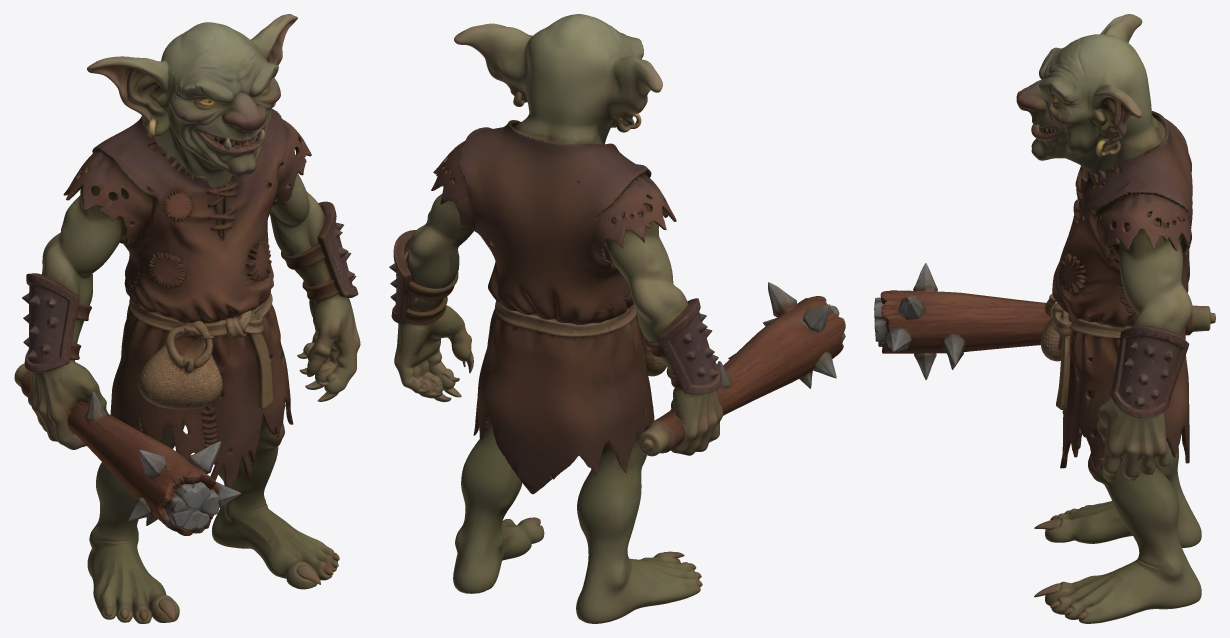
The model's file is agent-20.glb.
The picture shows the model from 3 angles, left to right: view 1: azimuth 30°, elevation 25°; view 2: azimuth 150°, elevation 25°; view 3: azimuth 270°, elevation 25°; orthographic projection. The views are drawn at different scales.
Parts seen in each view (by area): view 1: material; view 2: material; view 3: material.
Boxes of the visible parts, <box> form: material: <box>14,14,360,623</box>; material: <box>389,14,845,623</box>; material: <box>874,14,1215,623</box>.
Bounding box in the file's own units: 0.6548 × 1.04 × 0.6021.
1 material, 1 textured.
